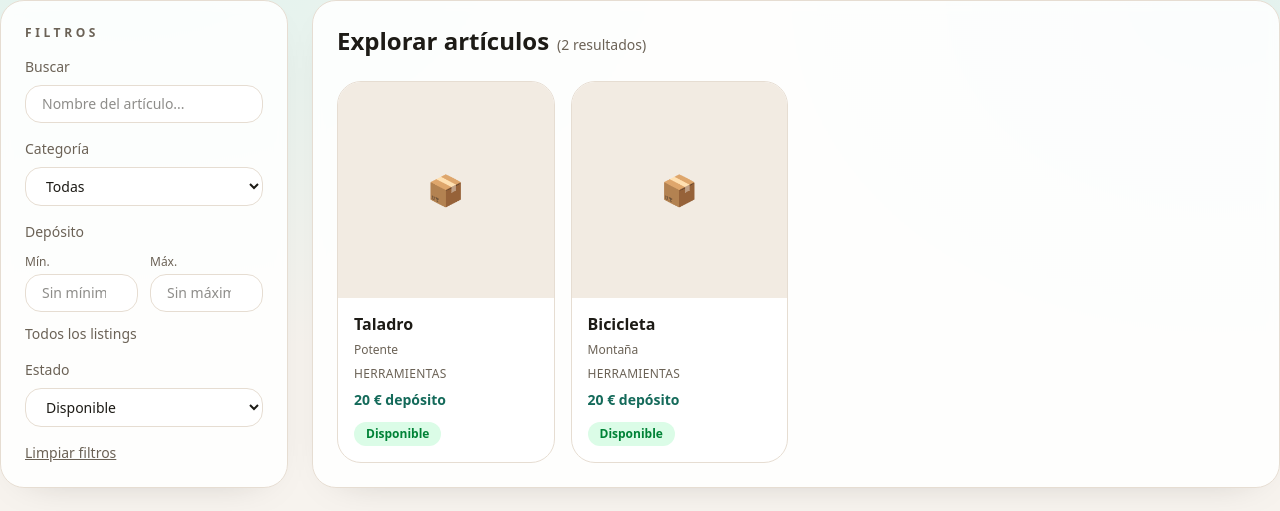
Test: ListingsPage › filtra por texto en cliente usando el buscador
expect the heading "Taladro" is shown: met, box [354,312,413,334]
expect the heading "Bicicleta" is shown: met, box [588,312,655,334]
Type "bici" into the field with placeholder "Nombre del artículo...". click: (144, 104)
box: [25,85,263,123]
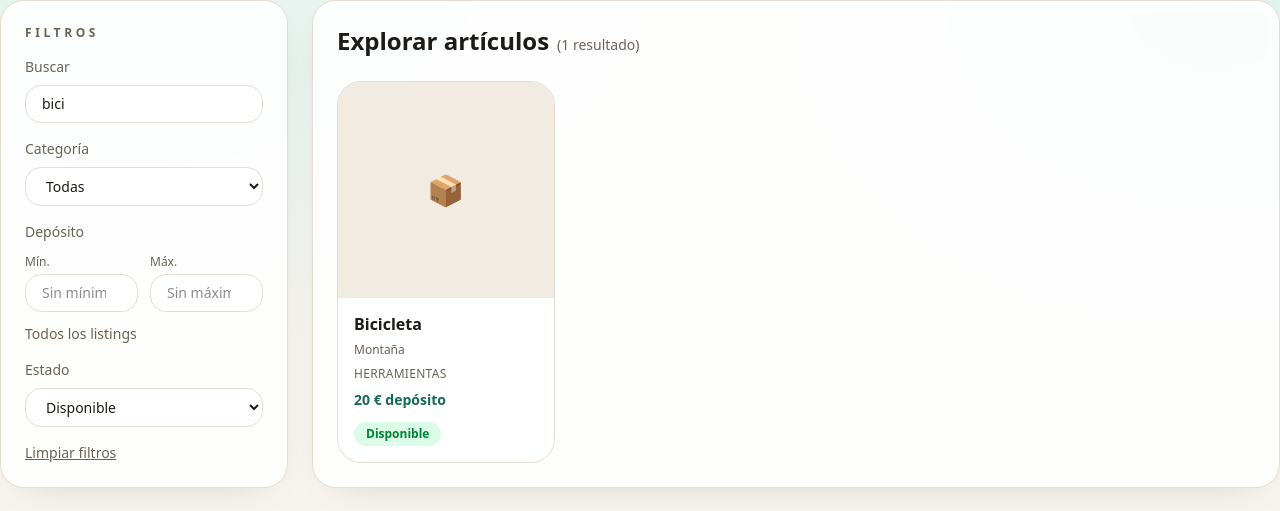
expect the heading "Bicicleta" is shown: met, box [354,312,422,334]
expect the link "Taladro" is gone: met
